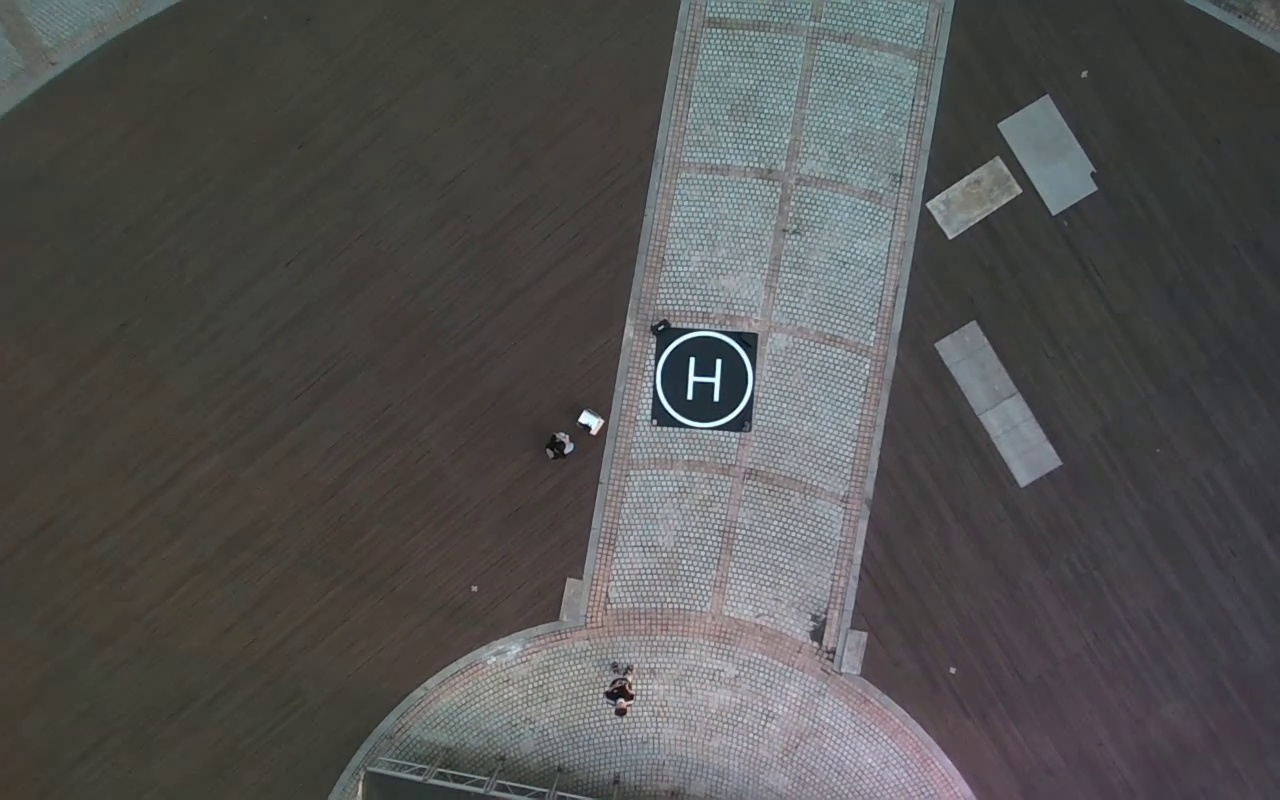H: (686, 354, 722, 401)
heliport: (656, 328, 755, 429)
